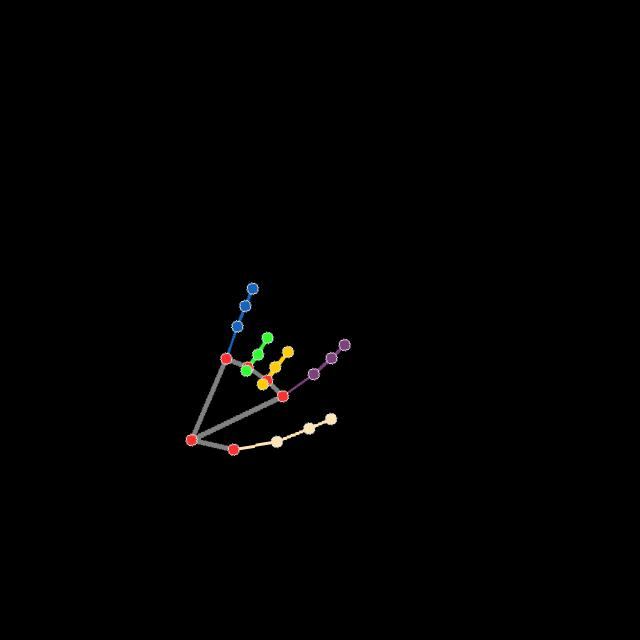spiderman: (181, 277, 354, 461)
